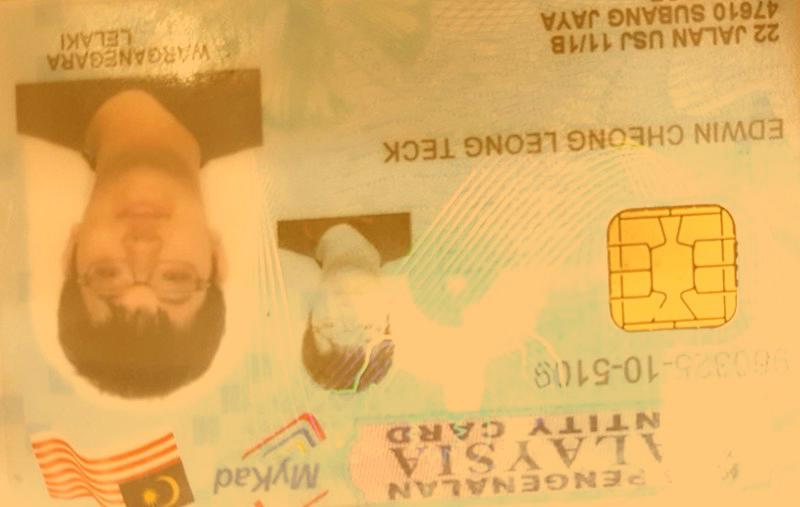hologram: (420, 165, 602, 346)
